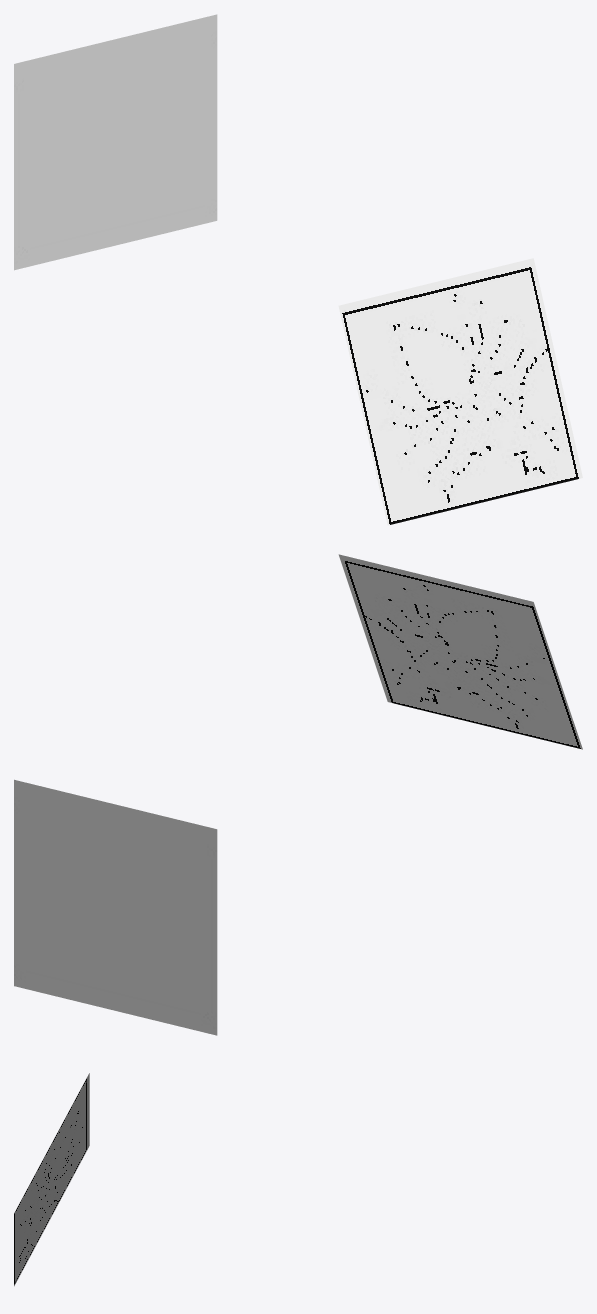
File: Orcs detalised.glb
The picture shows the model from 3 angles, top to bottom: view 1: azimuth 30°, elevation 25°; view 2: azimuth 150°, elevation 25°; view 3: azimuth 270°, elevation 25°; orthographic projection. The views are drawn at different scales.
Parts seen in each view (by area): view 1: mesh_id29, mesh_id1; view 2: mesh_id1, mesh_id29; view 3: mesh_id29.
Boxes of the visible parts, left/top/right/bottom form: mesh_id29: left=338, top=258, right=582, bottom=525; mesh_id1: left=14, top=14, right=217, bottom=270; mesh_id1: left=14, top=779, right=217, bottom=1035; mesh_id29: left=338, top=554, right=582, bottom=749; mesh_id29: left=14, top=1073, right=89, bottom=1286.
Size of the model in its own units: 0.102 by 0.099 by 0.3214.
2 materials, 2 textured.
